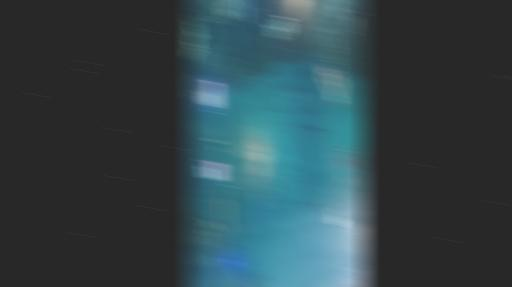Fish: (320, 65, 343, 106), (269, 17, 292, 38), (328, 208, 343, 226), (335, 170, 350, 188), (304, 197, 323, 211), (334, 150, 347, 170), (343, 147, 354, 169), (357, 146, 366, 169), (348, 16, 356, 34), (268, 181, 279, 194), (255, 194, 266, 206), (354, 170, 363, 184), (273, 174, 284, 184), (240, 2, 246, 20), (271, 193, 279, 206), (264, 78, 273, 88), (271, 79, 280, 89), (274, 87, 283, 97), (263, 99, 271, 110), (273, 103, 281, 113), (294, 88, 300, 101), (348, 279, 359, 286), (252, 103, 261, 111), (275, 120, 283, 128), (349, 279, 358, 286), (312, 201, 318, 211), (251, 91, 257, 101), (263, 78, 266, 88), (275, 108, 281, 113)
